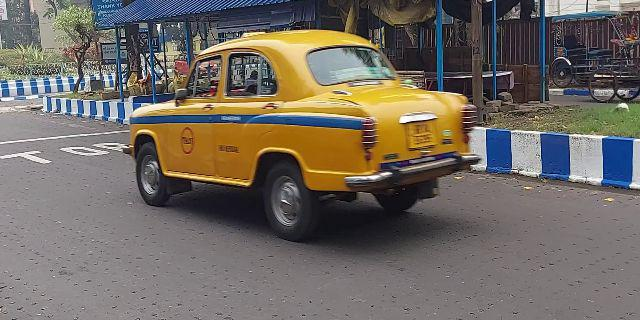Car: (123, 29, 489, 238)
